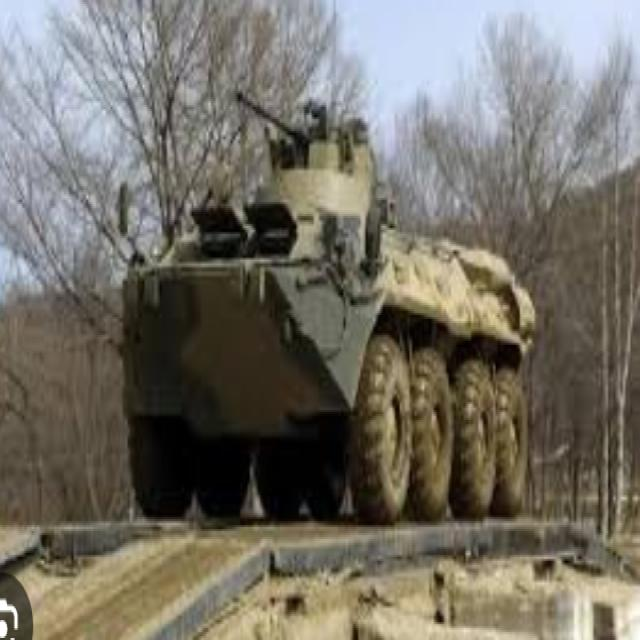MIL_APC: (108, 110, 579, 560)
